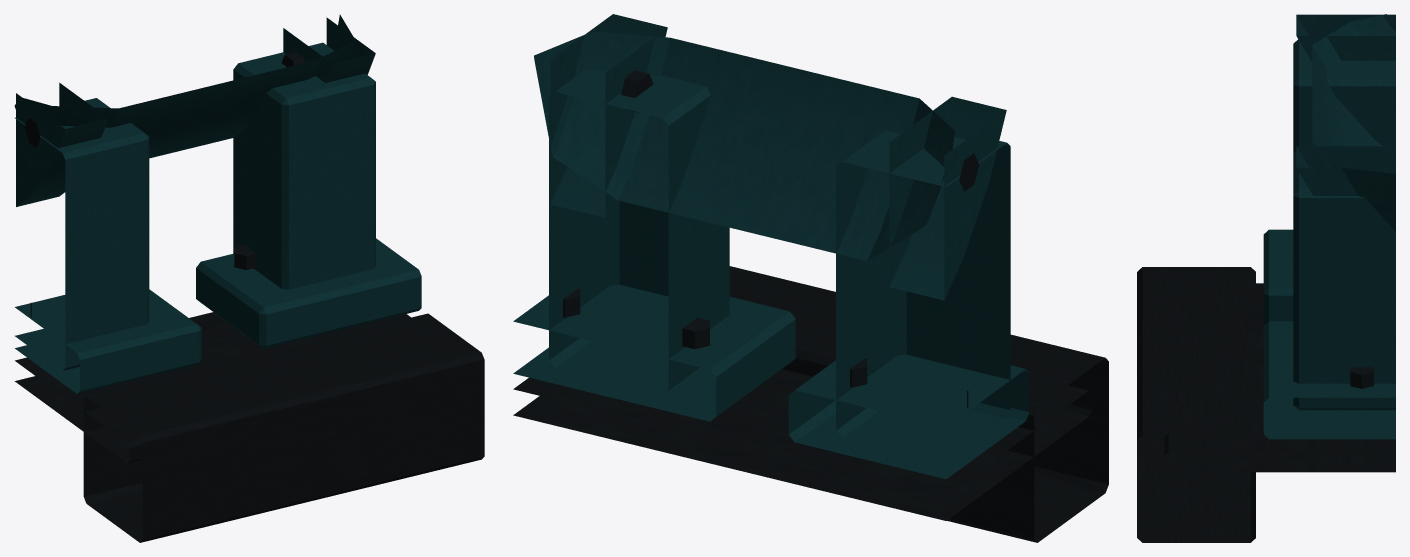
File: cell_13.obj
3 renders of one model, left to right at view 1: azimuth 30°, elevation 25°; view 2: azimuth 150°, elevation 25°; view 3: azimuth 270°, elevation 25°, orthographic. The views are drawn at different scales.
Visible parts, largest first — view 1: cell_13; view 2: cell_13; view 3: cell_13.
Part boxes in pixels (<box>): cell_13: <box>14,14,484,542</box>; cell_13: <box>513,14,1108,542</box>; cell_13: <box>1137,14,1395,542</box>.
Bounding box in the file's own units: 1 × 1 × 0.65.
